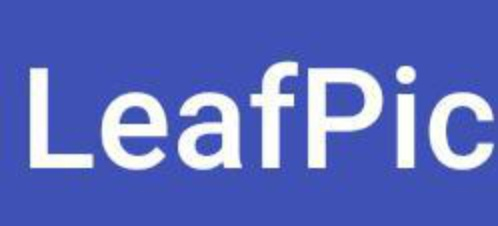TextView: (1, 1, 497, 225)
